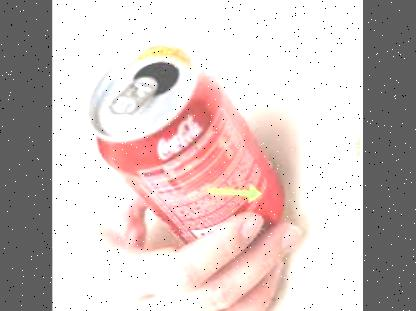Can: (86, 41, 287, 240)
